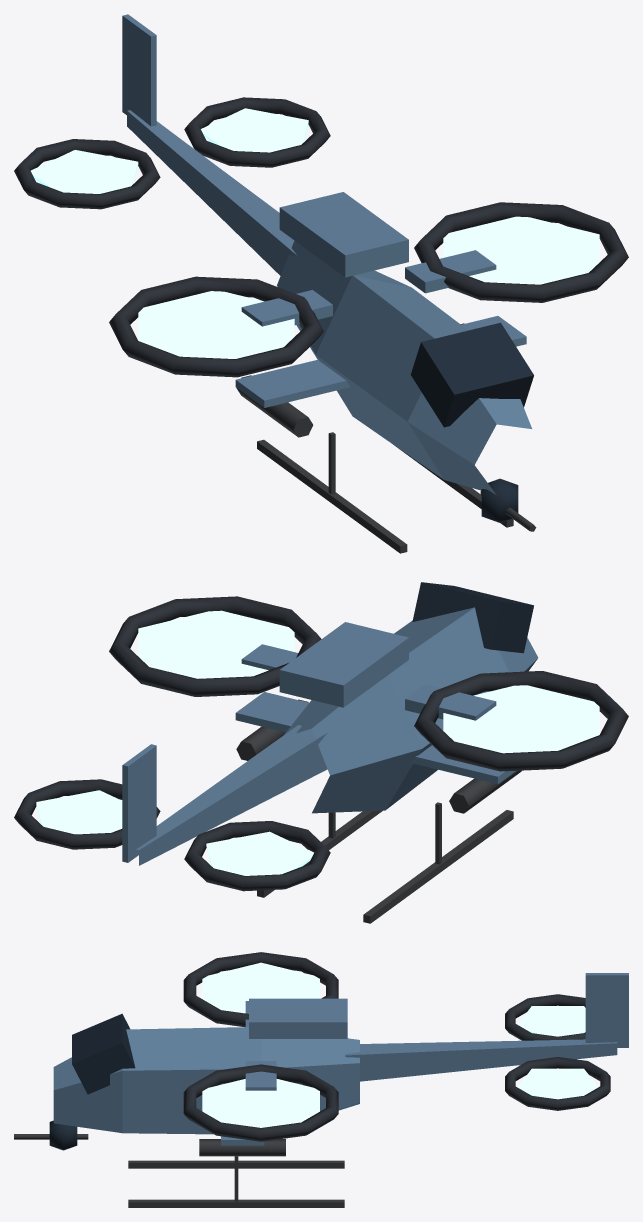
Rendered from veh_air_heli_attack_a10_lod1.glb.
3 views of the same model, one above another, from view 1: azimuth 30°, elevation 25°; view 2: azimuth 150°, elevation 25°; view 3: azimuth 270°, elevation 25° (orthographic). The views are drawn at different scales.
Visible parts, largest first — view 1: body, rotor_r, rotor_l, rotor_aft_r, rotor_aft_l; view 2: body, rotor_r, rotor_l, rotor_aft_r, rotor_aft_l; view 3: body, rotor_l, rotor_r, rotor_aft_l, rotor_aft_r.
Part boxes in pixels (x1,y1,x2,y2): body: (122,14,533,553); rotor_r: (109,276,323,377); rotor_l: (414,202,628,302); rotor_aft_r: (14,139,160,209); rotor_aft_l: (184,97,330,167); body: (122,582,538,923); rotor_r: (414,671,628,771); rotor_l: (109,596,321,696); rotor_aft_r: (184,821,330,891); rotor_aft_l: (14,779,160,849); body: (49,973,628,1207); rotor_l: (183,1064,338,1141); rotor_r: (183,952,338,1026); rotor_aft_l: (505,1057,610,1110); rotor_aft_r: (505,994,585,1040).
Bounding box in the file's own units: 6.94 × 3.8 × 9.95.
